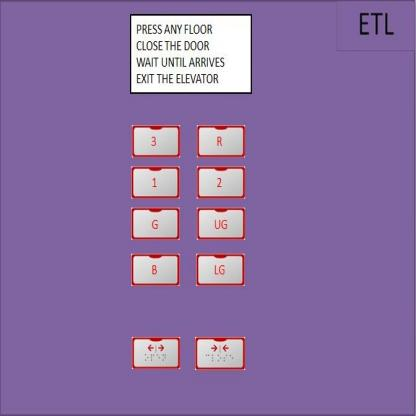1: (130, 163, 182, 201)
2: (193, 162, 246, 200)
3: (130, 121, 182, 161)
B: (129, 249, 181, 288)
G: (129, 203, 180, 241)
LG: (194, 250, 245, 288)
R: (194, 121, 246, 160)
UG: (194, 204, 246, 240)
close: (192, 333, 246, 373)
open: (129, 333, 181, 372)
